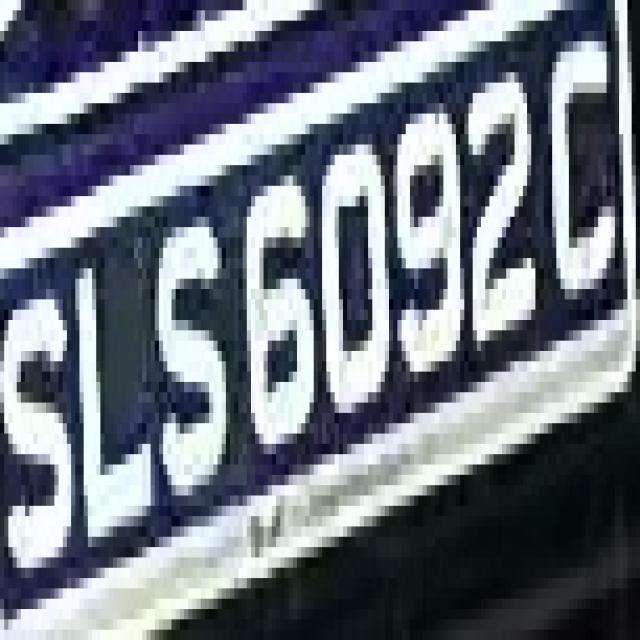0: (318, 113, 389, 413)
2: (443, 20, 548, 402)
6: (247, 144, 318, 444)
9: (385, 72, 464, 403)
C: (536, 11, 628, 362)
L: (71, 238, 151, 547)
S: (0, 247, 79, 588), (146, 206, 226, 537)
